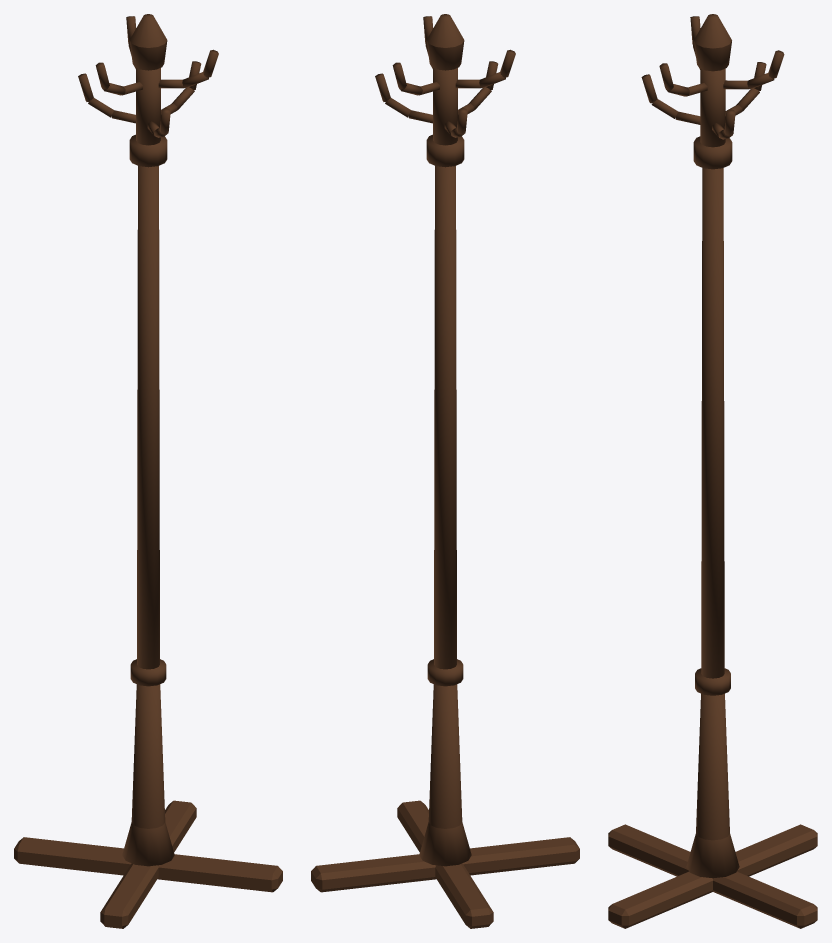
The model's file is CabideiroDePe.fbx.
3 renders of one model, left to right at view 1: azimuth 30°, elevation 25°; view 2: azimuth 150°, elevation 25°; view 3: azimuth 270°, elevation 25°, orthographic.
Visible parts, largest first — view 1: CabideiroDePe; view 2: CabideiroDePe; view 3: CabideiroDePe.
Part boxes in pixels (box(x1,y1,x2,y2)): CabideiroDePe: box(14, 14, 282, 928); CabideiroDePe: box(311, 14, 579, 928); CabideiroDePe: box(608, 14, 817, 928).
Bounding box in the file's own units: 0.3924 × 1.8 × 0.3924.
